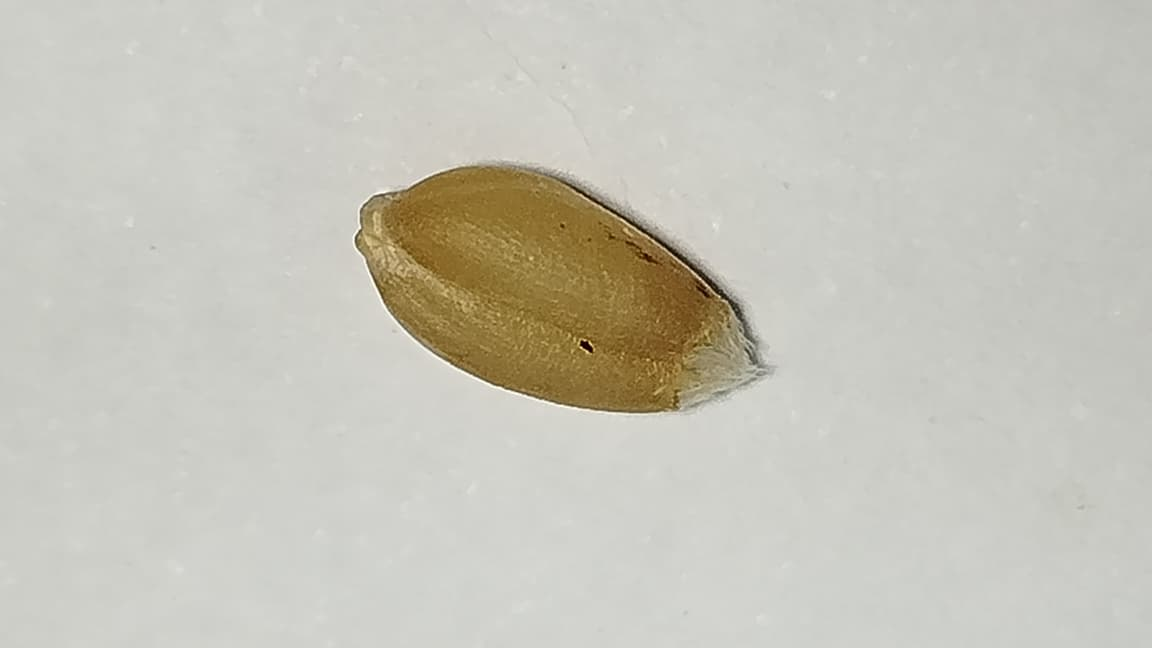healthy: (356, 166, 754, 410)
